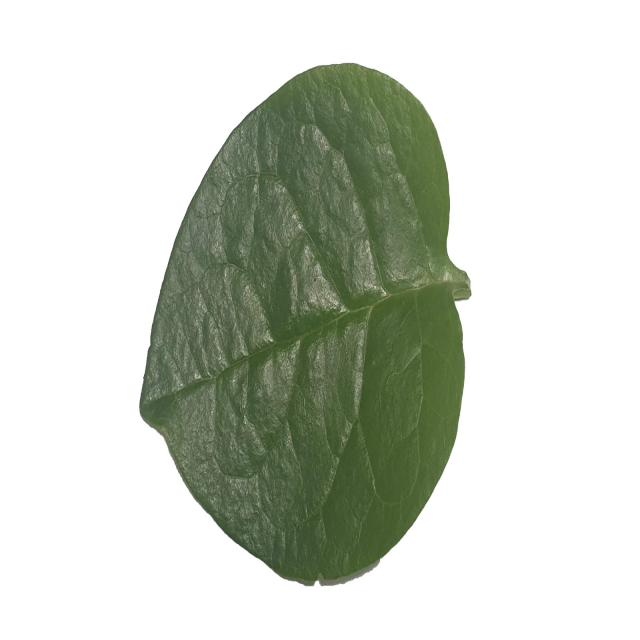Medicinal-Basale: (137, 59, 472, 585)
